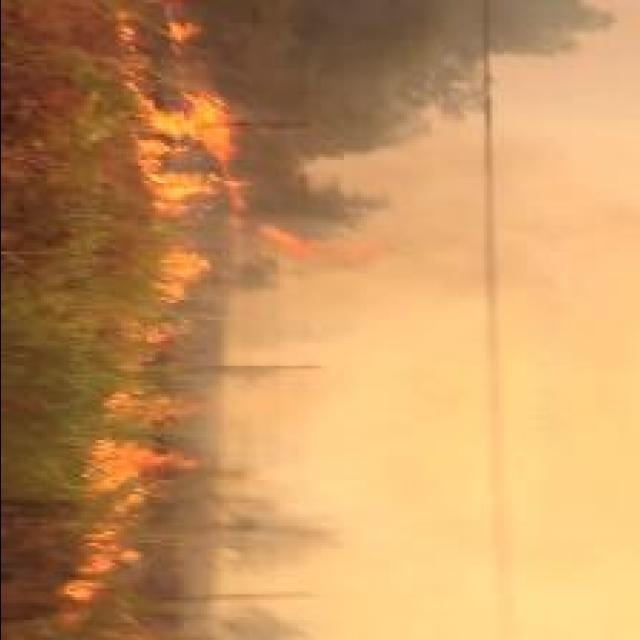Fire: (114, 4, 394, 256), (54, 386, 214, 634), (153, 246, 210, 308)
